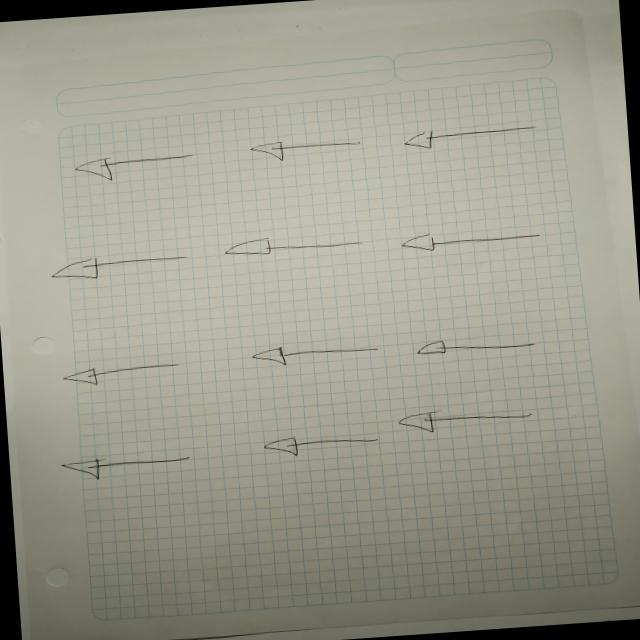arrow_line_left: (45, 243, 196, 291), (391, 219, 553, 262), (56, 442, 206, 487), (214, 226, 373, 268), (390, 398, 544, 439), (395, 118, 545, 160), (236, 334, 388, 374), (64, 146, 208, 188), (240, 132, 376, 174), (407, 328, 548, 366), (252, 424, 386, 462), (53, 358, 188, 390)
